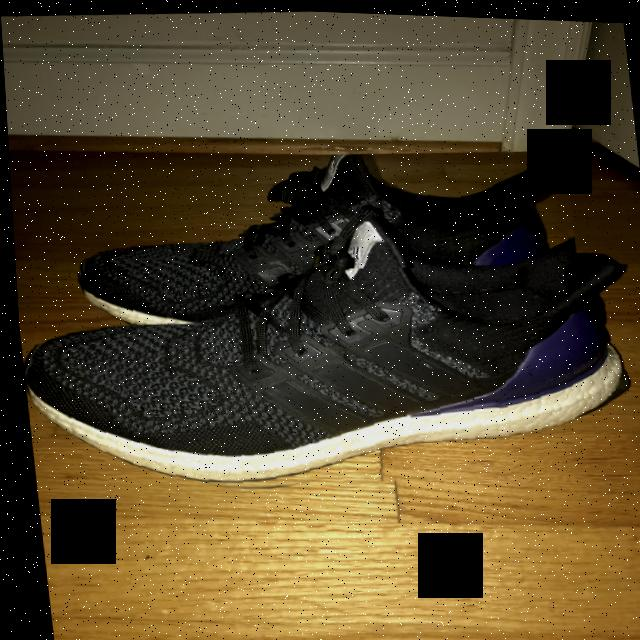shoe: (11, 240, 640, 516), (6, 130, 582, 350)
